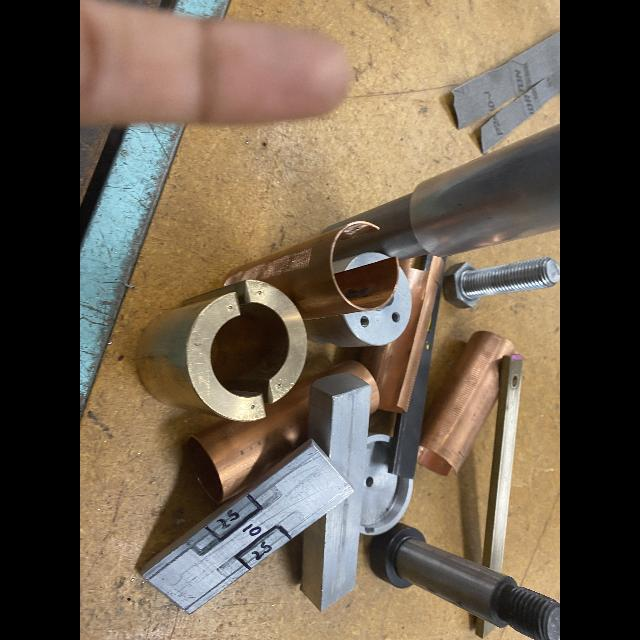Aluminium: (141, 438, 354, 615), (411, 122, 560, 258), (301, 373, 370, 611), (358, 434, 414, 535)
Brass: (136, 280, 306, 422), (481, 355, 522, 573), (475, 618, 495, 637)
Copper: (191, 360, 378, 502), (225, 223, 398, 320), (418, 331, 516, 476), (359, 255, 444, 412)
Ferrous Metal: (370, 523, 559, 640), (388, 266, 445, 480), (327, 193, 429, 261), (445, 258, 559, 308)
